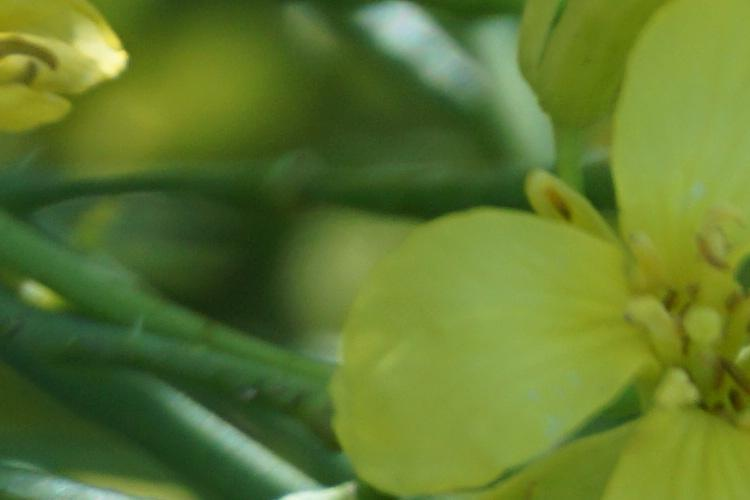yellow: (320, 14, 750, 500)
